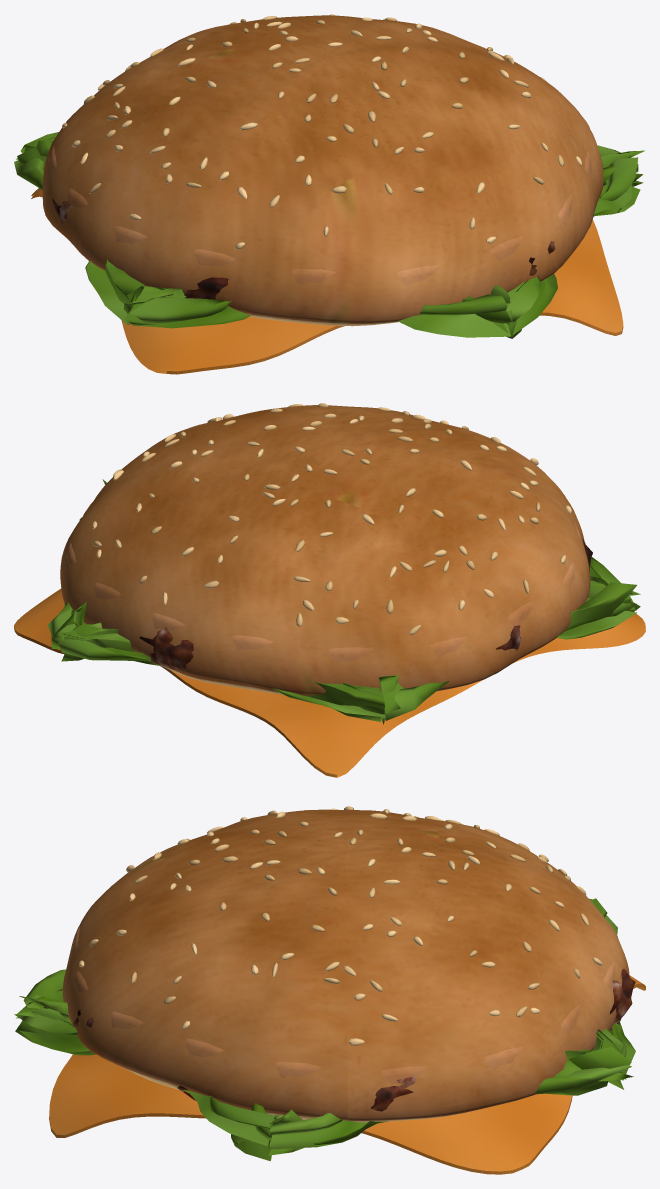
Rendered from half-pounder.glb.
3 renders of one model, top to bottom at view 1: azimuth 30°, elevation 25°; view 2: azimuth 150°, elevation 25°; view 3: azimuth 270°, elevation 25°, orthographic. The views are drawn at different scales.
Visible parts, largest first — view 1: top, lettuce, cheese, bun, beef; view 2: top, cheese, lettuce, bun, beef; view 3: top, cheese, lettuce, bun, beef.
Part boxes in pixels (box(x1,y1,x2,y2)): top: box(42, 14, 603, 326); lettuce: box(14, 132, 644, 338); cheese: box(31, 188, 623, 374); bun: box(48, 115, 591, 286); beef: box(52, 199, 555, 299); top: box(60, 403, 590, 695); cheese: box(14, 588, 645, 777); lettuce: box(48, 479, 640, 724); bun: box(65, 495, 583, 662); beef: box(79, 517, 592, 671); top: box(62, 806, 629, 1122); cheese: box(49, 975, 645, 1174); lettuce: box(14, 898, 635, 1160); bun: box(73, 921, 618, 1084); beef: box(73, 968, 635, 1111).
Bounding box in the file's own units: 2.75 × 1.01 × 2.72.
Materials: 10 (3 with a texture image).
